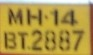character: (60, 9, 79, 26), (26, 7, 42, 25), (72, 29, 85, 51), (58, 29, 71, 50), (7, 8, 23, 25), (3, 31, 17, 49), (30, 29, 42, 50), (44, 30, 56, 50), (17, 31, 28, 50), (50, 8, 59, 25)
